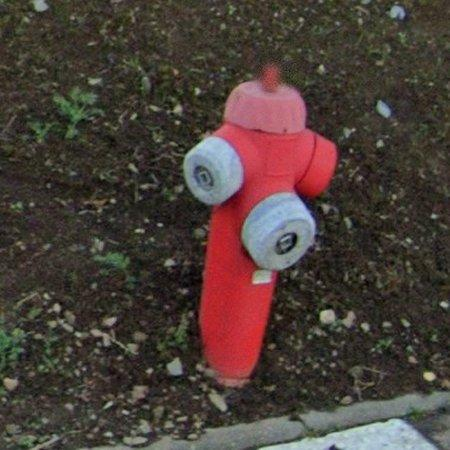a fire hydrant: (184, 65, 338, 387)
